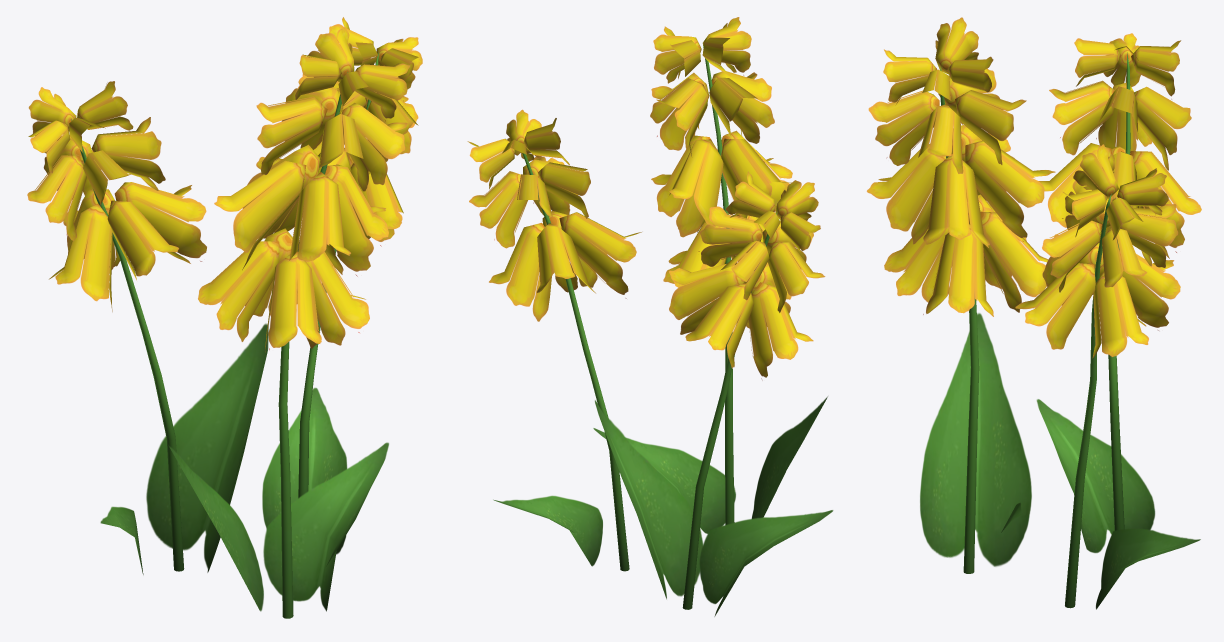
The model's file is flower-group-2.glb.
3 renders of one model, left to right at view 1: azimuth 30°, elevation 25°; view 2: azimuth 150°, elevation 25°; view 3: azimuth 270°, elevation 25°, orthographic. The views are drawn at different scales.
Visible parts, largest first — view 1: Flower_4_Group; view 2: Flower_4_Group; view 3: Flower_4_Group.
Part boxes in pixels (left/top/right/bottom): Flower_4_Group: left=27, top=17, right=422, bottom=618; Flower_4_Group: left=467, top=17, right=833, bottom=616; Flower_4_Group: left=866, top=17, right=1201, bottom=609.
Size of the model in its own units: 1.78 by 2.49 by 1.37.
Materials: 2 (2 with a texture image).
